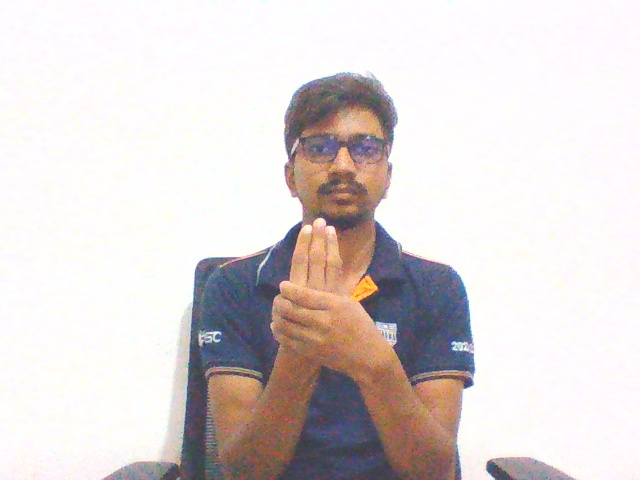tree: (262, 212, 406, 389)
